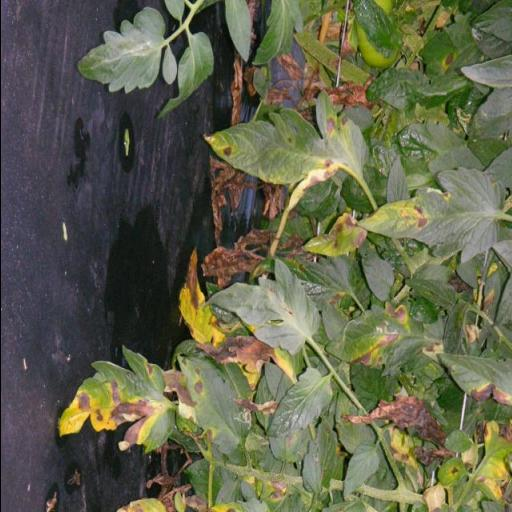disease_tomato: (202, 90, 382, 186), (360, 162, 502, 268), (55, 348, 179, 456), (200, 256, 318, 358), (324, 306, 439, 382), (176, 352, 252, 456), (176, 354, 252, 456), (438, 352, 512, 409), (300, 212, 367, 264)
